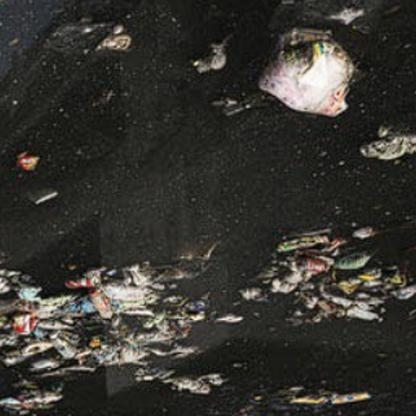Trash: (254, 29, 360, 123), (14, 146, 44, 180)
